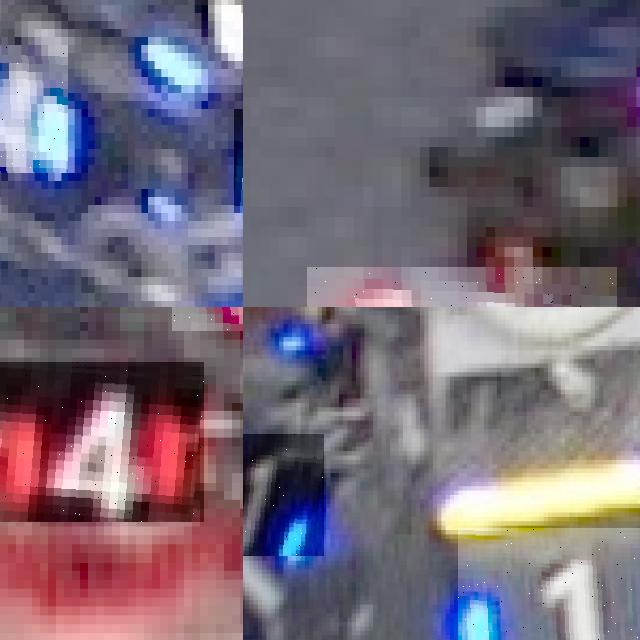B1: (458, 527, 640, 640), (243, 433, 324, 556)
B4: (0, 45, 67, 173)
R3: (306, 267, 617, 307)
R4: (0, 362, 204, 522)
